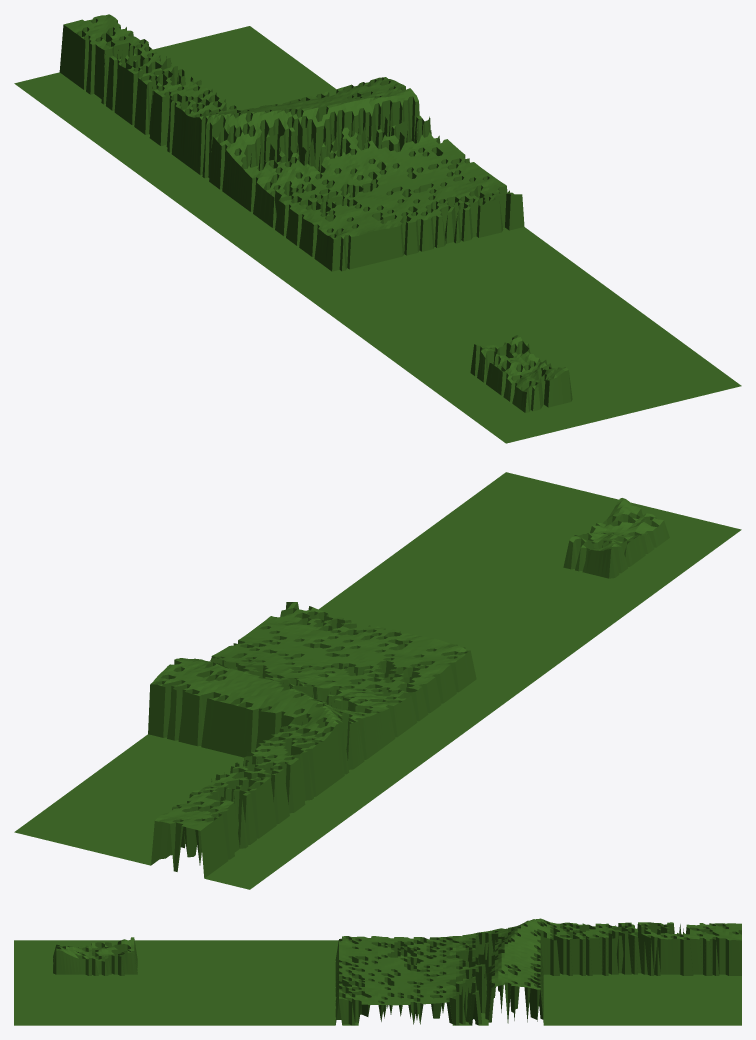
File: alsasua_terrain_LOD3.fbx
3 renders of one model, top to bottom at view 1: azimuth 30°, elevation 25°; view 2: azimuth 150°, elevation 25°; view 3: azimuth 270°, elevation 25°, orthographic. The views are drawn at different scales.
Visible parts, largest first — view 1: Terrain_LOD3_80m; view 2: Terrain_LOD3_80m; view 3: Terrain_LOD3_80m.
Boxes of the visible parts, x1,y1,x2,y2 form: Terrain_LOD3_80m: (14,14,741,443); Terrain_LOD3_80m: (14,472,741,889); Terrain_LOD3_80m: (14,918,741,1025).
Bounding box in the file's own units: 4960 × 1198 × 17920.
